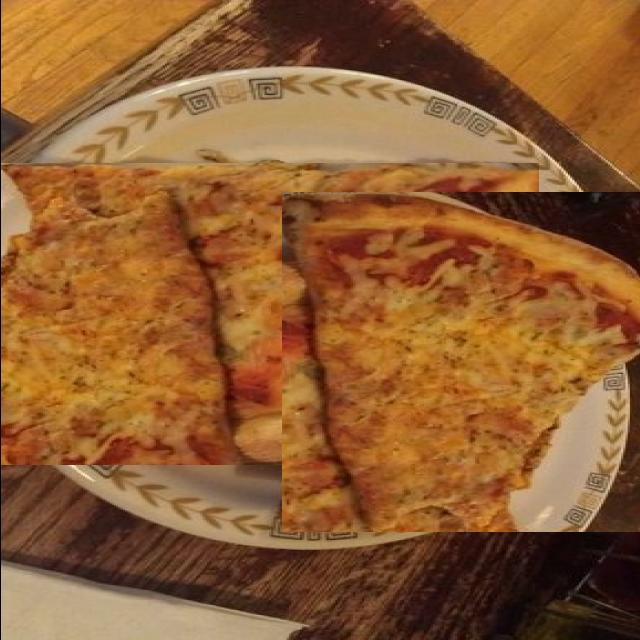pizza: (0, 163, 538, 465), (281, 192, 640, 532)
